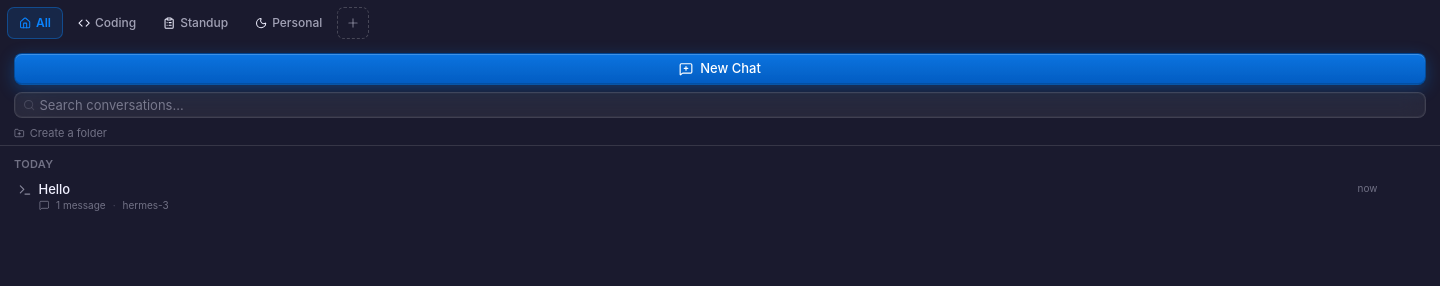
Flow: Session Management › shows empty state when search matches nothing
In the field with placeholder "Search conversations...": (720,104) x1=14 y1=92 x2=1426 y2=118, type "zzz no match"
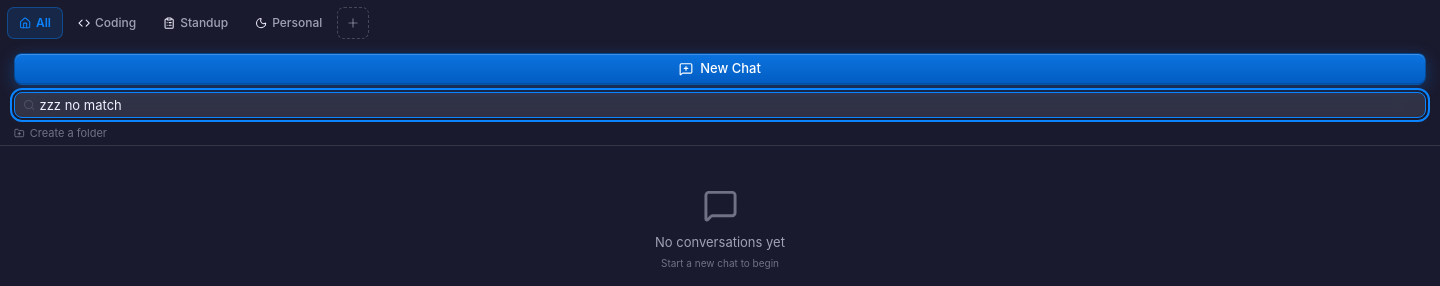
Now the text "No conversations yet" is shown, box x1=655 y1=233 x2=785 y2=252
